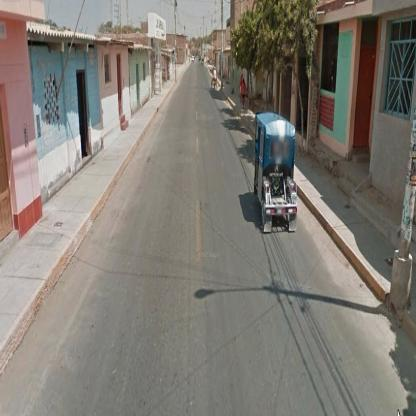Peaton: (242, 79, 248, 110)
Pista: (7, 57, 415, 368)
Vehiculo: (255, 112, 298, 232)
